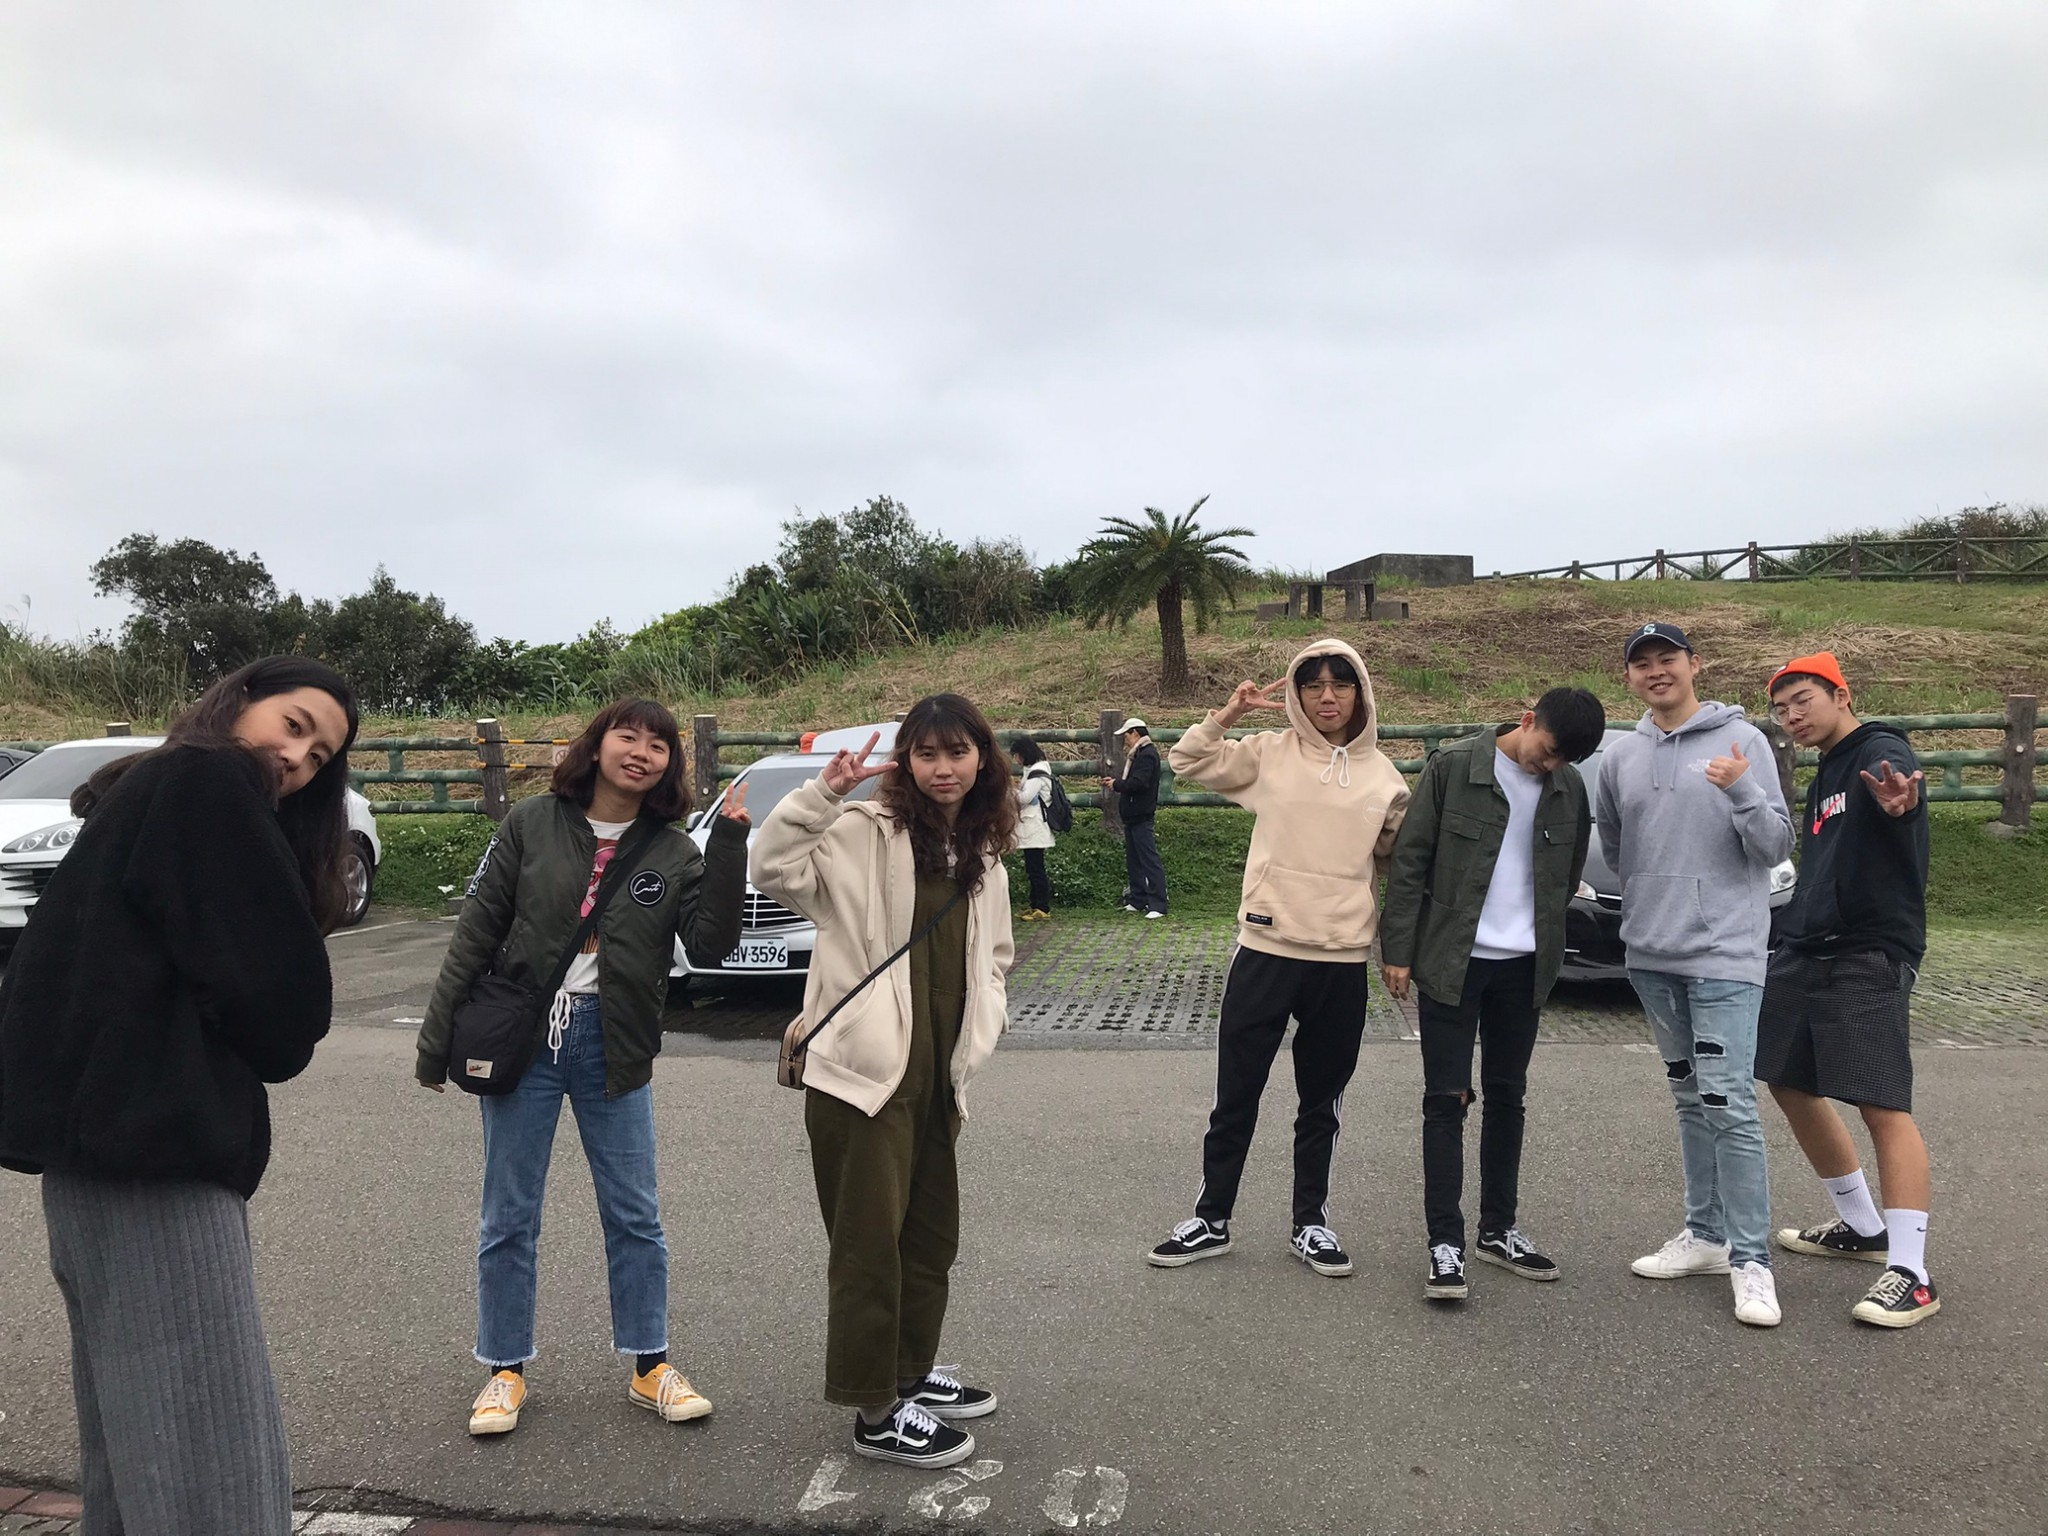people: (46, 655, 354, 1534), (484, 702, 734, 1437), (1604, 622, 1804, 1328), (846, 693, 1019, 1469), (1775, 658, 1960, 1337), (1413, 693, 1572, 1302), (1237, 640, 1369, 1293), (1007, 734, 1072, 940), (1110, 716, 1178, 916)
